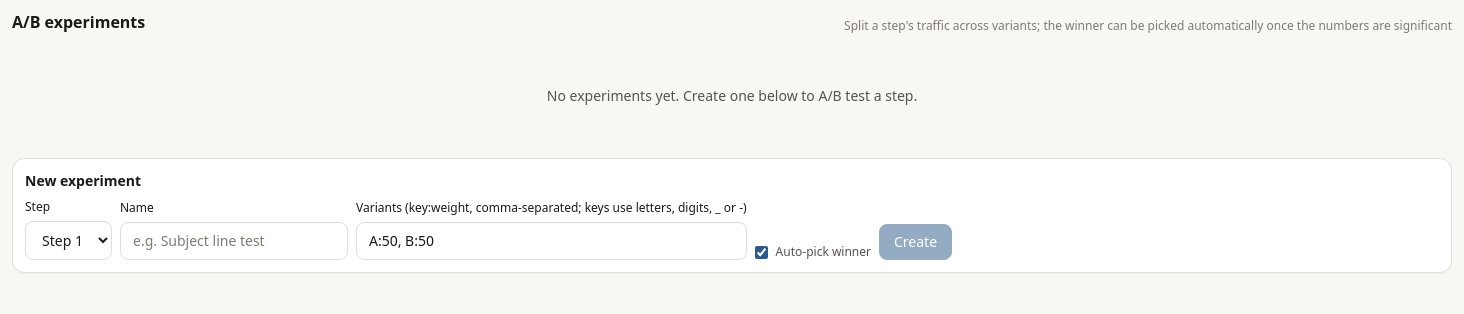
Scenario: ExperimentsPanel outcome form › refuses a variant list with a bad key before sending anything
Expected: the text "No experiments yet. Create one below to A/B test a step." is shown, [547,86,917,105]
Step 1. Type "T" into the field with placeholder "e.g. Subject line test" → x=234, y=241, box [120,222,348,260]
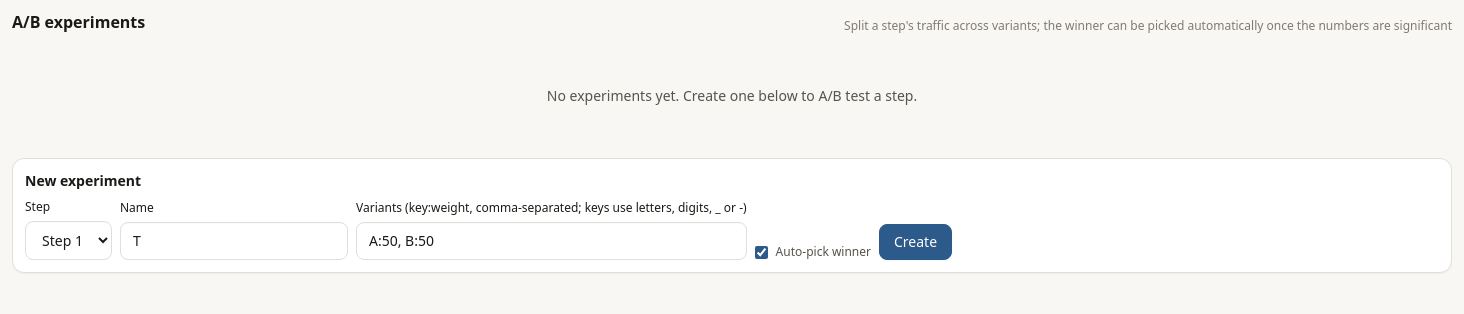
Step 2. Type "A:50, B x:50" into the field with placeholder "A:50, B:50" → x=551, y=241, box [356,222,747,260]
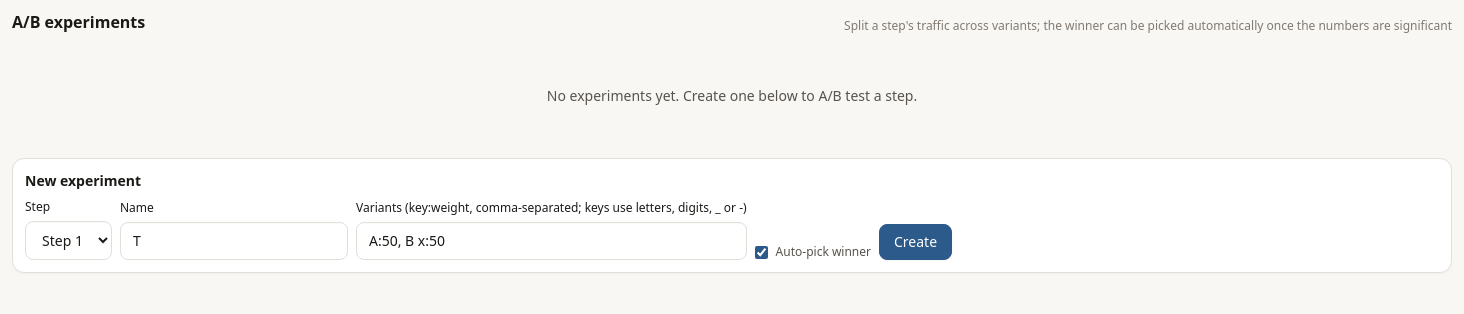
Step 3. Click the button "Create" → x=916, y=242, box [879,224,952,260]
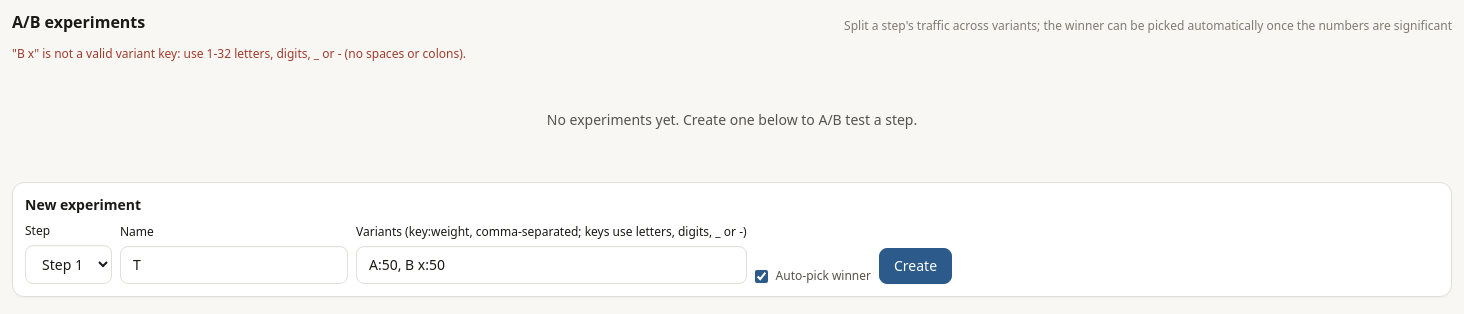
Now the message shows "not a valid variant key", box [12,45,466,62]
